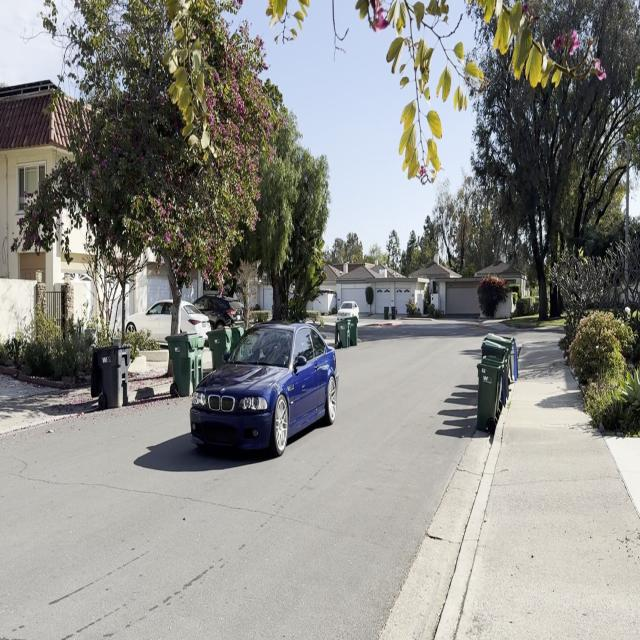Carbeetle: (187, 320, 342, 466)
